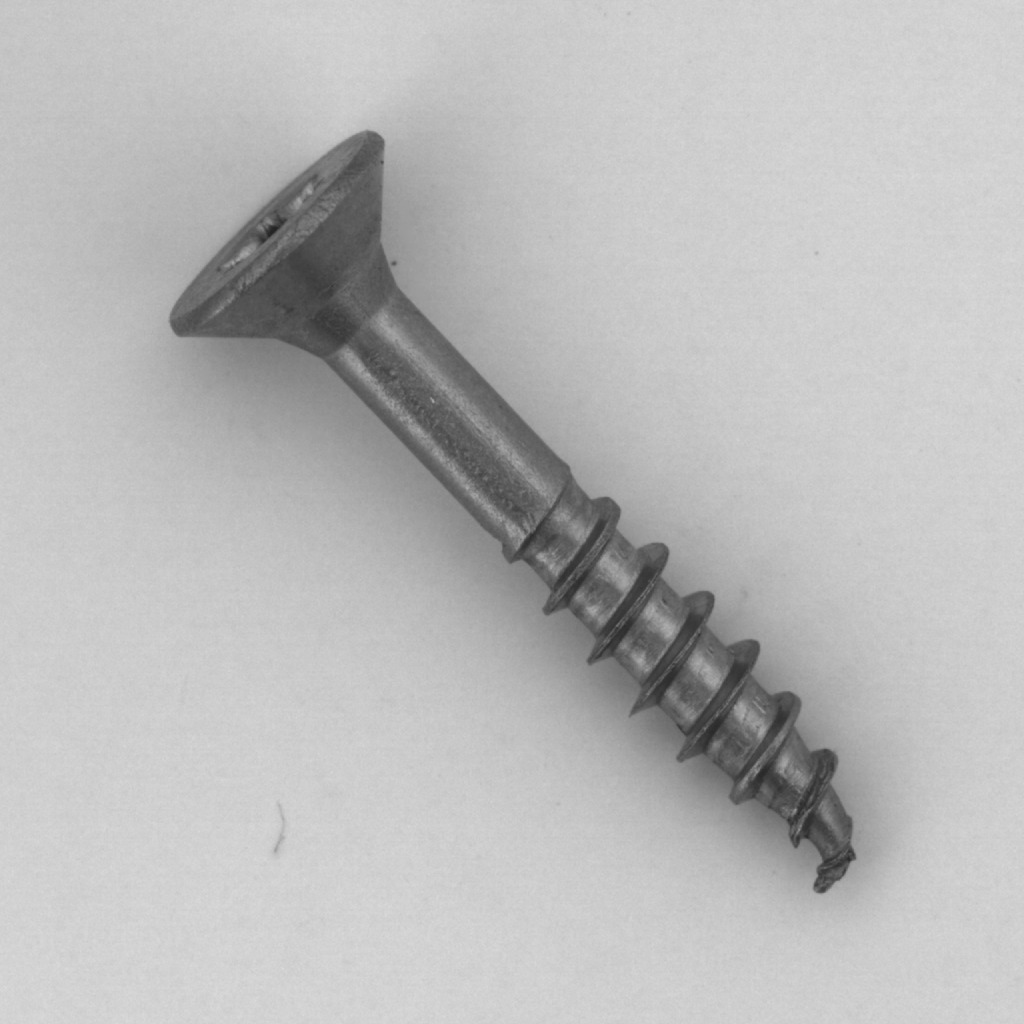thread_top: (345, 560, 562, 781)
